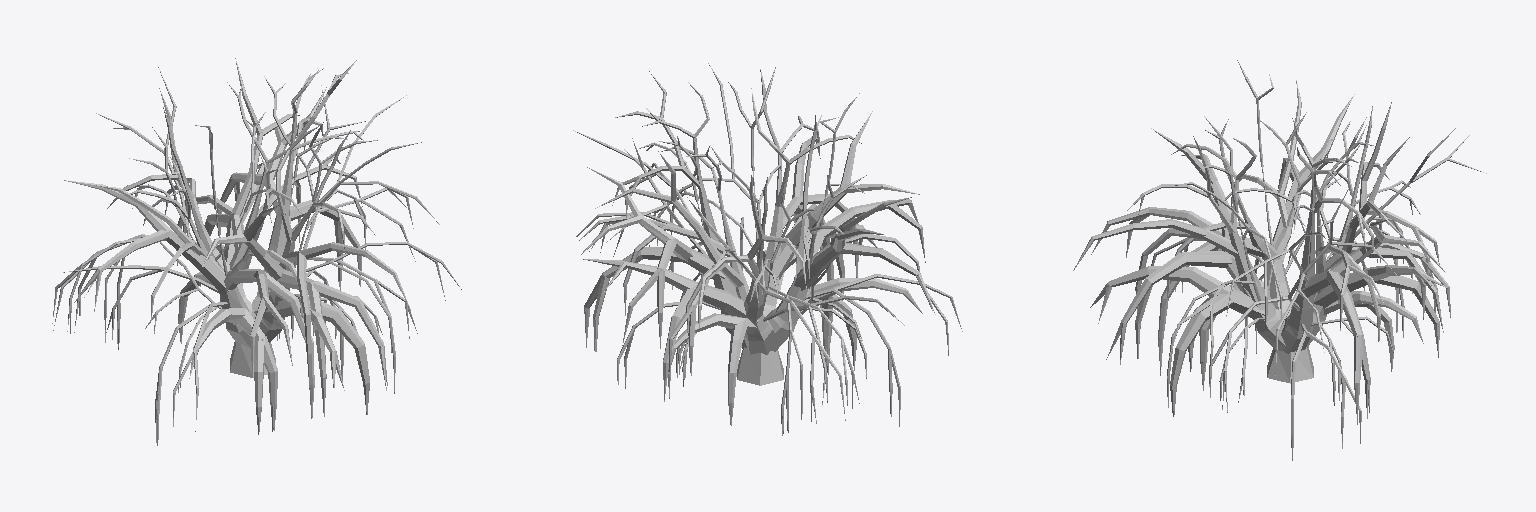
The model's file is tree13.obj.
The picture shows the model from 3 angles: view 1: azimuth 30°, elevation 25°; view 2: azimuth 150°, elevation 25°; view 3: azimuth 270°, elevation 25°; orthographic projection.
Parts seen in each view (by area): view 1: tree; view 2: tree; view 3: tree.
Part boxes in pixels (x1,y1,x2,y2): tree: (52, 58, 461, 445); tree: (573, 63, 962, 435); tree: (1073, 60, 1486, 460).
Bounding box in the file's own units: 7.79 × 6.96 × 7.99.